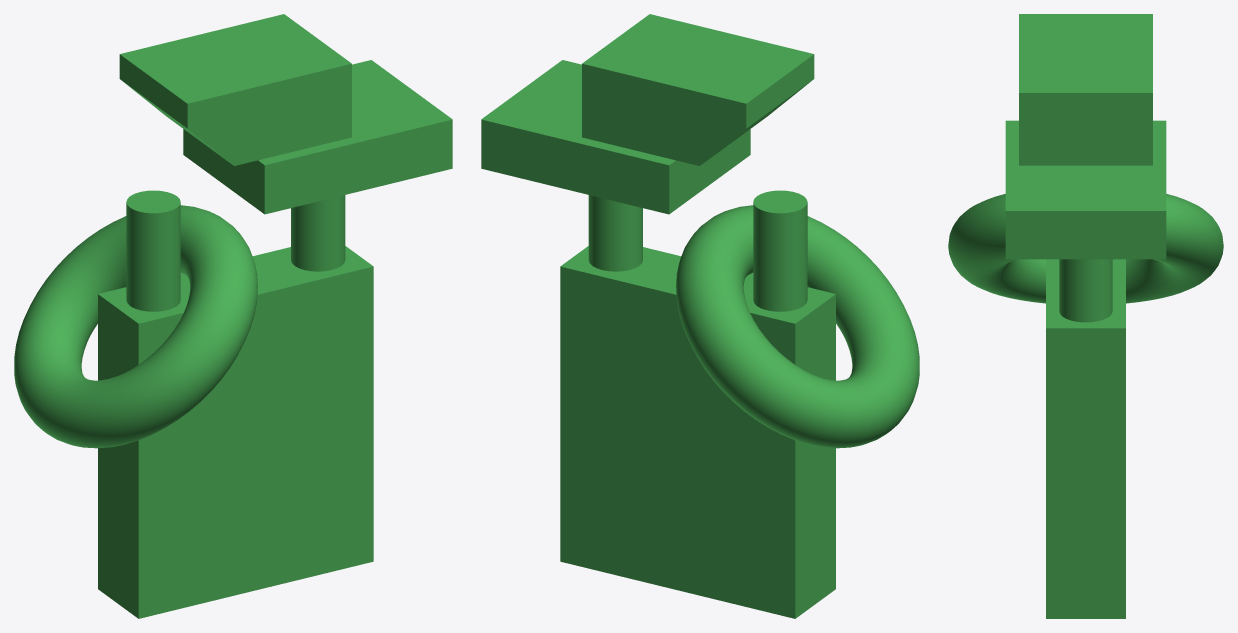
The model's file is Quiz4.glb.
The picture shows the model from 3 angles, left to right: view 1: azimuth 30°, elevation 25°; view 2: azimuth 150°, elevation 25°; view 3: azimuth 270°, elevation 25°; orthographic projection.
Visible parts, largest first — view 1: Part 2; view 2: Part 2; view 3: Part 2.
Boxes of the visible parts, bbox=[...] form: Part 2: bbox=[14, 14, 452, 618]; Part 2: bbox=[481, 14, 919, 618]; Part 2: bbox=[948, 14, 1223, 618].
Size of the model in its own units: 0.0508 by 0.0667 by 0.0327.
